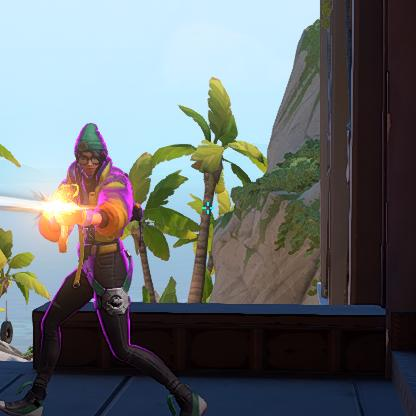enemyBody: (80, 181, 116, 257)
enemyHead: (80, 150, 101, 174)
